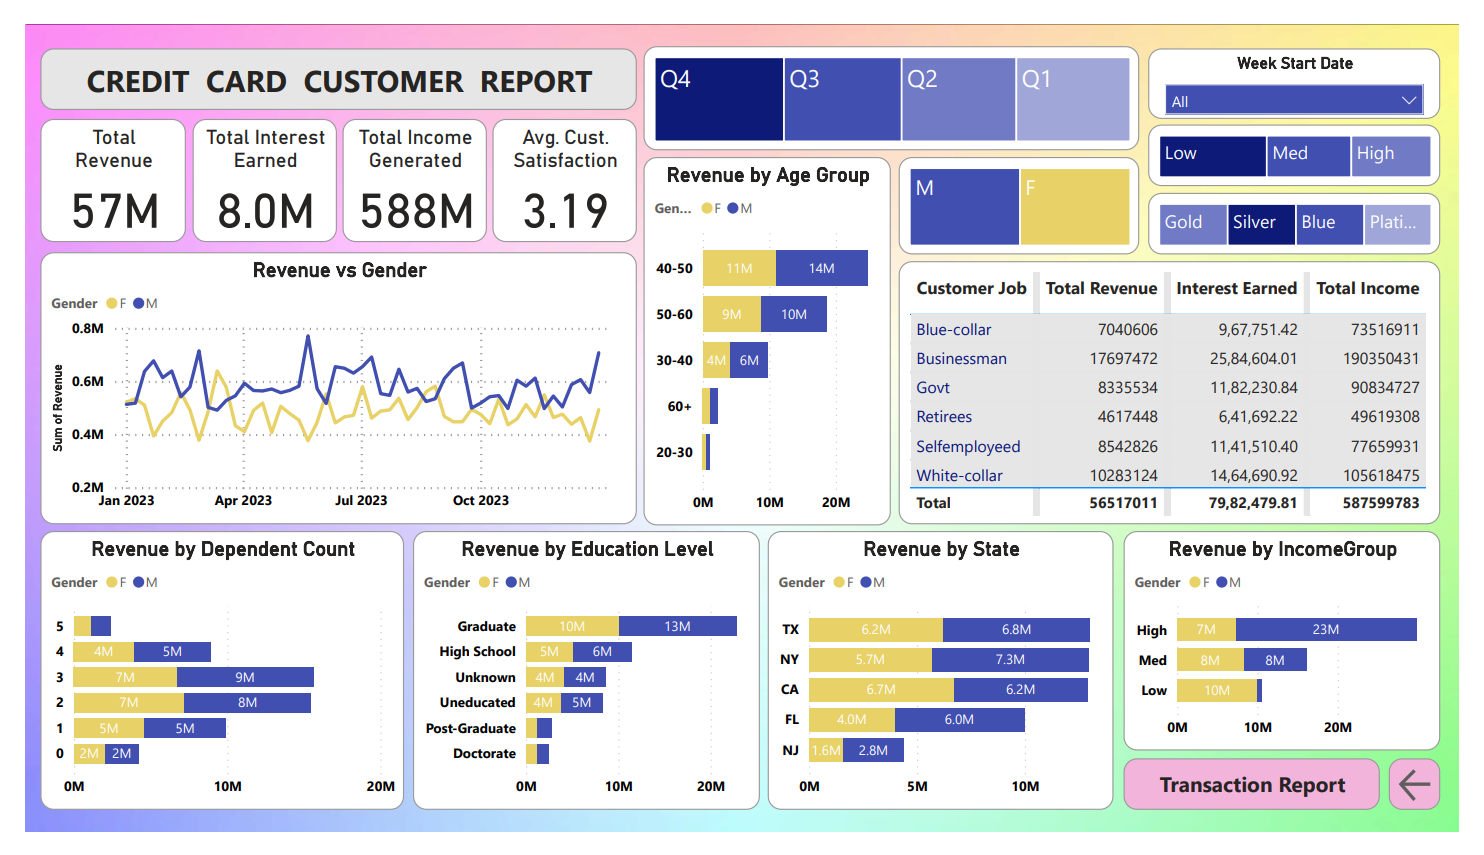

Layout of this report page (visuals, bound fields, positions):
{"tool":"powerbi","page":{"name":"Credit_Card_Customer_Report","canvas":[1280,720],"ordinal":1},"visuals":[{"type":"barChart","title":"Revenue by IncomeGroup","fields":{"Y":["Sum(ccdb cc_detail.Revenue)"],"Category":["ccdb cust_detail.IncomeGroup"],"Series":["ccdb cust_detail.Gender"]},"box":[980.5,452.3,283.4,196],"z":0},{"type":"tableEx","fields":{"Values":["ccdb cust_detail.Customer_Job","Sum(ccdb cc_detail.Revenue)","Sum(ccdb cc_detail.Interest_Earned)","Sum(ccdb cust_detail.Income)"]},"box":[780.3,211.1,483.6,235.2],"z":1000},{"type":"lineChart","title":"Revenue vs Gender","fields":{"Y":["Sum(ccdb cc_detail.Revenue)"],"Series":["ccdb cust_detail.Gender"],"Category":["ccdb cc_detail.Week_Start_Date.Variation.Date Hierarchy.Year","ccdb cc_detail.Week_Start_Date.Variation.Date Hierarchy.Month","ccdb cc_detail.Week_Start_Date.Variation.Date Hierarchy.Day"]},"box":[13.3,202.6,533.1,243.6],"z":2000},{"type":"barChart","title":"Revenue by Age Group","fields":{"Y":["Sum(ccdb cc_detail.Revenue)"],"Category":["ccdb cust_detail.AgeGroup"],"Series":["ccdb cust_detail.Gender"]},"box":[552,118,220.7,329],"z":3000},{"type":"barChart","title":"Revenue by Education Level","fields":{"Y":["Sum(ccdb cc_detail.Revenue)"],"Category":["ccdb cust_detail.Education_Level"],"Series":["ccdb cust_detail.Gender"]},"box":[346,452,309.9,249],"z":4000},{"type":"barChart","title":"Revenue by Dependent Count","fields":{"Y":["Sum(ccdb cc_detail.Revenue)"],"Category":["ccdb cust_detail.Dependent_Count"],"Series":["ccdb cust_detail.Gender"]},"box":[13.3,452.3,325,248.4],"z":5000},{"type":"barChart","title":"Revenue by State","fields":{"Y":["Sum(ccdb cc_detail.Revenue)"],"Category":["ccdb cust_detail.state_cd"],"Series":["ccdb cust_detail.Gender"]},"box":[663,452,309,249],"z":6000},{"type":"card","title":"Total Revenue","fields":{"Values":["Sum(ccdb cc_detail.Revenue)"]},"box":[13.3,84.4,130,109.7],"z":7000},{"type":"card","title":"Avg. Cust. Satisfaction","fields":{"Values":["Avg(ccdb cust_detail.Cust_Satisfaction_Score)"]},"box":[417,84.4,129,109.7],"z":8000},{"type":"card","title":"Total Interest Earned","fields":{"Values":["Sum(ccdb cc_detail.Interest_Earned)"]},"box":[149,84.4,129,109.7],"z":9000},{"type":"card","title":"Total Income Generated","fields":{"Values":["Sum(ccdb cust_detail.Income)"]},"box":[283,84.4,129,109.7],"z":10000},{"type":"slicer","title":"Week Start Date","fields":{"Values":["ccdb cc_detail.Week_Start_Date"]},"box":[1003.4,20.5,260.5,63.9],"z":11000},{"type":"treemap","fields":{"Group":["ccdb cc_detail.Qtr"],"Values":["Avg(ccdb cc_detail.Client_Num)"]},"box":[552.4,19.3,442.6,92.9],"z":12000},{"type":"treemap","fields":{"Group":["ccdb cust_detail.Gender"],"Values":["Min(ccdb cc_detail.Client_Num)"]},"box":[780.3,118,214.7,87],"z":13000},{"type":"treemap","fields":{"Values":["Avg(ccdb cc_detail.Client_Num)"],"Group":["ccdb cc_detail.Card_Category"]},"box":[1003.4,150,260.5,55],"z":14000},{"type":"treemap","fields":{"Values":["Sum(ccdb cc_detail.Client_Num)"],"Group":["ccdb cust_detail.IncomeGroup"]},"box":[1003.4,89,260.5,55.5],"z":15000},{"type":"textbox","box":[13.3,20.5,533.1,55.5],"z":16000},{"type":"actionButton","box":[1218.1,654.9,45.8,45.8],"z":17000},{"type":"textbox","box":[980.5,654.9,229.1,45.8],"z":18000}]}

Visuals, with their boxes in screenshot pixels (x1, y1, x2, y2), scaled from the page's 1280x720 canvas onto the 1484x855 screenshot:
"Revenue by IncomeGroup" barChart: x1=1137 y1=537 x2=1465 y2=770
tableEx - ccdb cust_detail.Customer_Job x Sum(ccdb cc_detail.Revenue): x1=905 y1=251 x2=1465 y2=530
"Revenue vs Gender" lineChart: x1=15 y1=241 x2=633 y2=530
"Revenue by Age Group" barChart: x1=640 y1=140 x2=896 y2=531
"Revenue by Education Level" barChart: x1=401 y1=537 x2=760 y2=832
"Revenue by Dependent Count" barChart: x1=15 y1=537 x2=392 y2=832
"Revenue by State" barChart: x1=769 y1=537 x2=1127 y2=832
"Total Revenue" card: x1=15 y1=100 x2=166 y2=230
"Avg. Cust. Satisfaction" card: x1=483 y1=100 x2=633 y2=230
"Total Interest Earned" card: x1=173 y1=100 x2=322 y2=230
"Total Income Generated" card: x1=328 y1=100 x2=478 y2=230
"Week Start Date" slicer: x1=1163 y1=24 x2=1465 y2=100
treemap - ccdb cc_detail.Qtr x Avg(ccdb cc_detail.Client_Num): x1=640 y1=23 x2=1154 y2=133
treemap - ccdb cust_detail.Gender x Min(ccdb cc_detail.Client_Num): x1=905 y1=140 x2=1154 y2=243
treemap - Avg(ccdb cc_detail.Client_Num) x ccdb cc_detail.Card_Category: x1=1163 y1=178 x2=1465 y2=243
treemap - Sum(ccdb cc_detail.Client_Num) x ccdb cust_detail.IncomeGroup: x1=1163 y1=106 x2=1465 y2=172
textbox: x1=15 y1=24 x2=633 y2=90
actionButton: x1=1412 y1=778 x2=1465 y2=832
textbox: x1=1137 y1=778 x2=1402 y2=832
